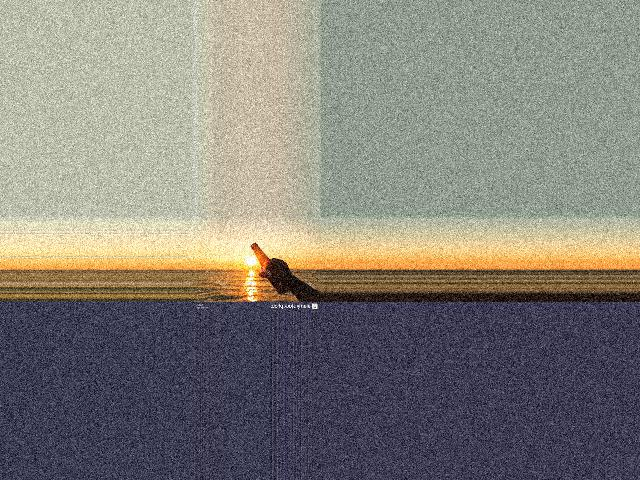beer: (250, 242, 289, 294)
